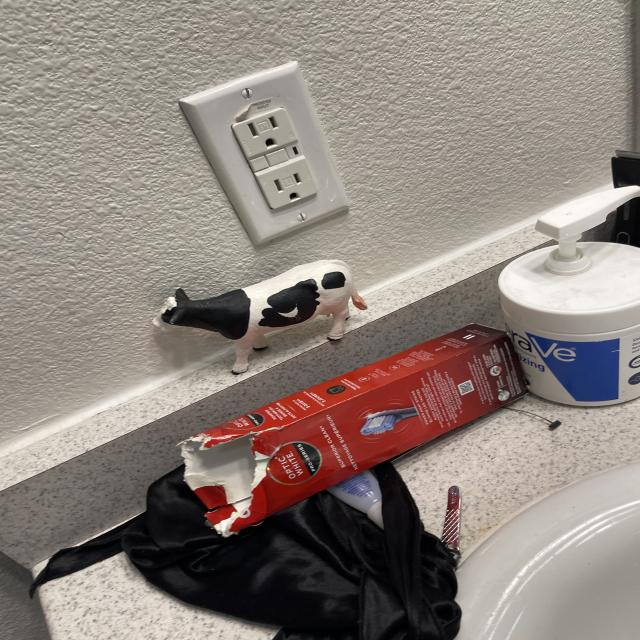cow: (148, 249, 376, 390)
